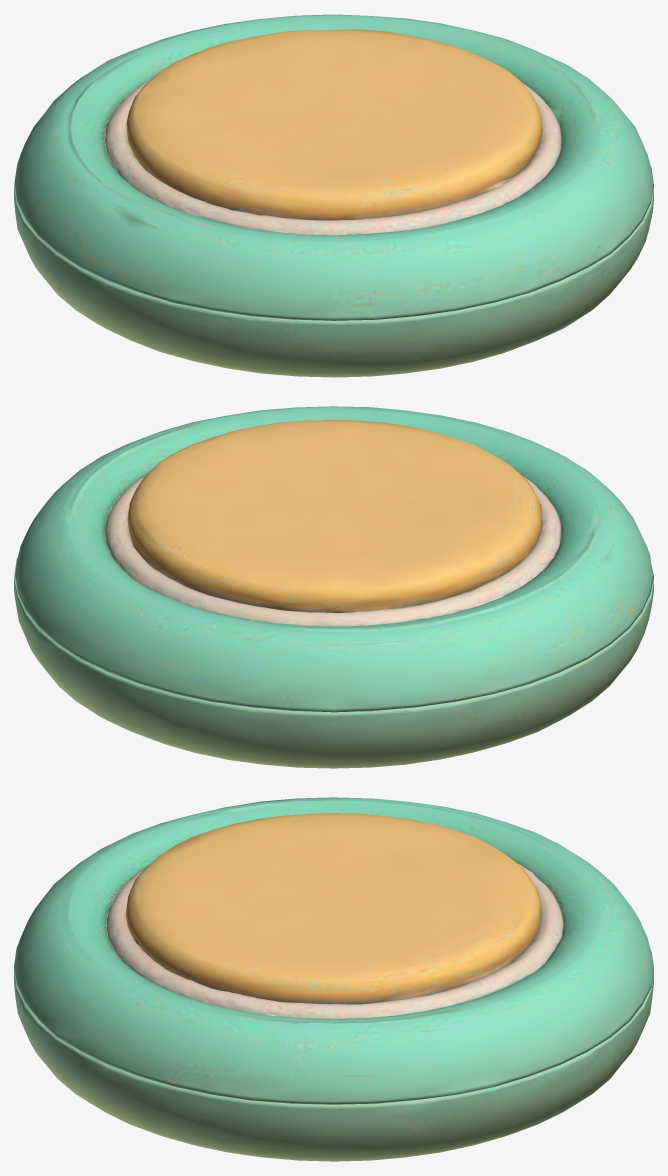
Rendered from pickup_glow_pad.glb.
3 renders of one model, top to bottom at view 1: azimuth 30°, elevation 25°; view 2: azimuth 150°, elevation 25°; view 3: azimuth 270°, elevation 25°, orthographic.
Visible parts, largest first — view 1: tripo_node_4a443a1d-b137-4674-bed5-fb1bc9b0924c; view 2: tripo_node_4a443a1d-b137-4674-bed5-fb1bc9b0924c; view 3: tripo_node_4a443a1d-b137-4674-bed5-fb1bc9b0924c.
Boxes of the visible parts, <box> form: tripo_node_4a443a1d-b137-4674-bed5-fb1bc9b0924c: <box>14,14,653,377</box>; tripo_node_4a443a1d-b137-4674-bed5-fb1bc9b0924c: <box>14,406,653,768</box>; tripo_node_4a443a1d-b137-4674-bed5-fb1bc9b0924c: <box>14,797,653,1161</box>.
Size of the model in its own units: 0.998 by 0.2676 by 0.998.
1 material, 1 textured.
